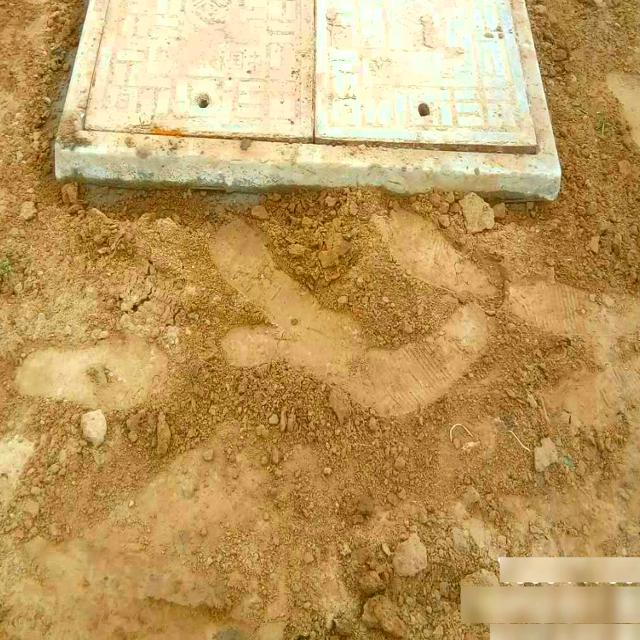good: (54, 0, 561, 165)
